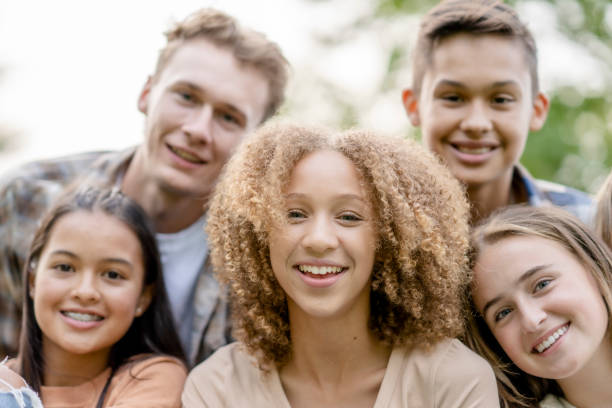face: (470, 250, 605, 374), (419, 51, 532, 183), (275, 182, 375, 316), (38, 236, 139, 354), (151, 73, 247, 188)
